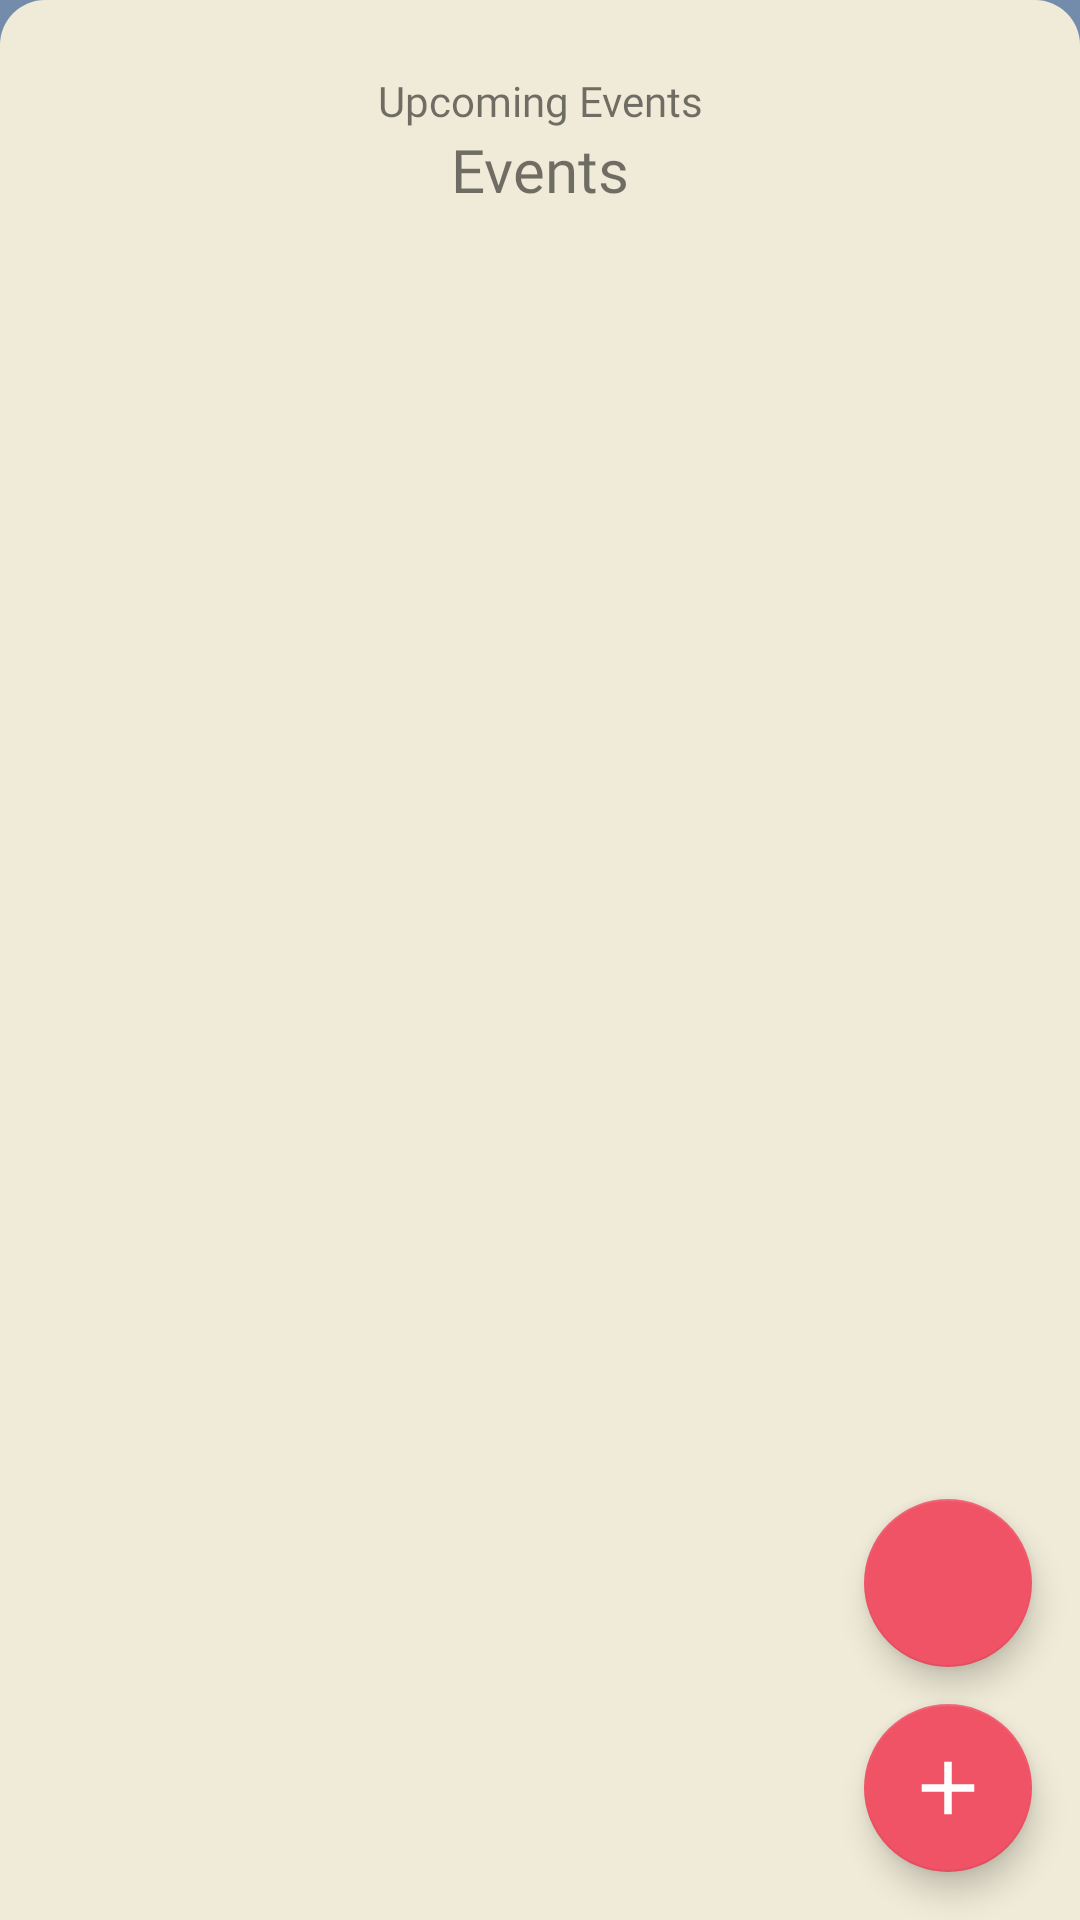

Locate icon controls on the screen. Image size 1080 x 1920, boxes as Rect(x1, y1, x2, y2).
Create new event: Rect(864, 1704, 1032, 1872)
